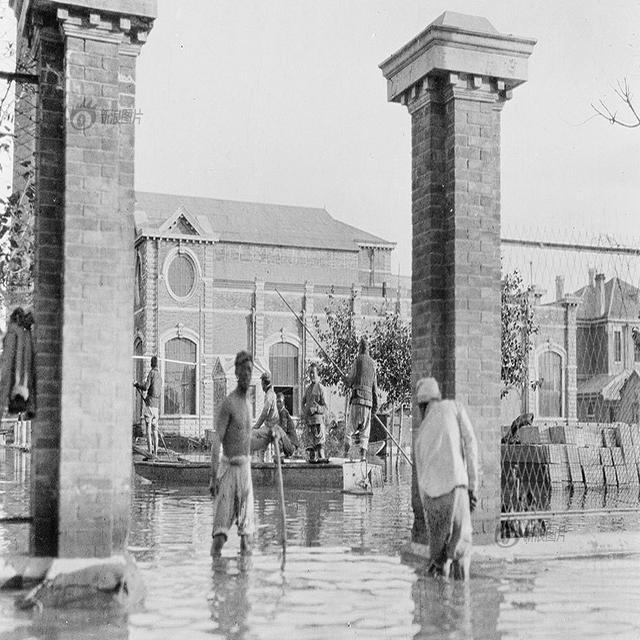Person-RiskLevel2: (197, 343, 283, 583), (398, 370, 490, 587)
Person-RiskLevel3: (334, 332, 382, 479)
